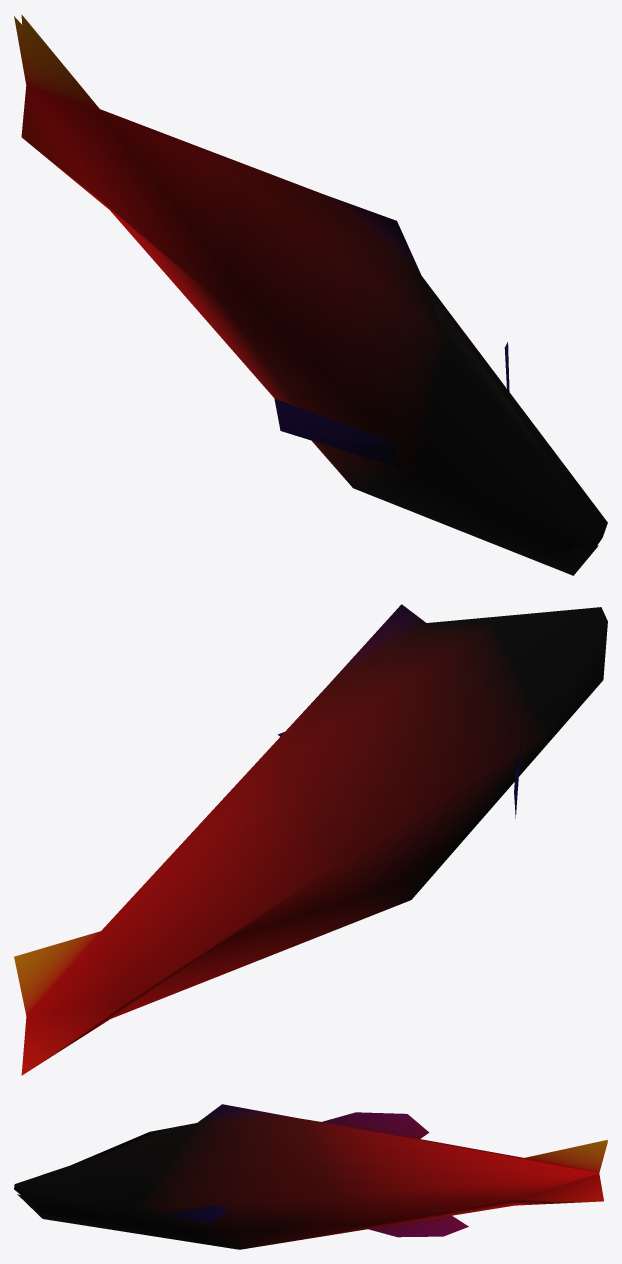
The picture shows the model from 3 angles, top to bottom: view 1: azimuth 30°, elevation 25°; view 2: azimuth 150°, elevation 25°; view 3: azimuth 270°, elevation 25°; orthographic projection. The views are drawn at different scales.
Visible parts, largest first — view 1: Seabass_Default; view 2: Seabass_Default; view 3: Seabass_Default.
Boxes of the visible parts, bbox=[...] form: Seabass_Default: bbox=[14, 14, 607, 575]; Seabass_Default: bbox=[14, 604, 607, 1075]; Seabass_Default: bbox=[14, 1104, 607, 1249].
Bounding box in the file's own units: 0.1189 × 0.1329 × 0.5148.
